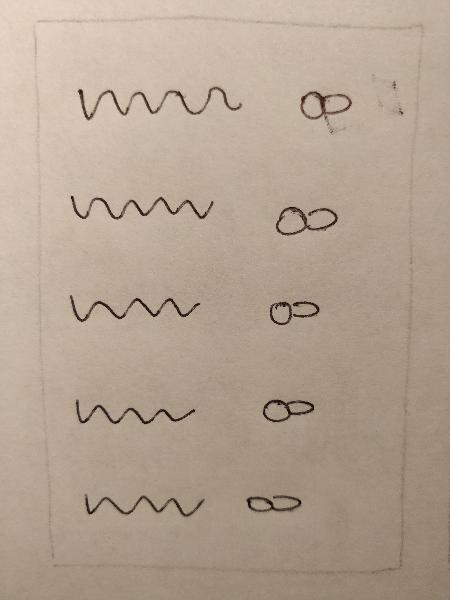switch: (261, 191, 351, 255), (280, 78, 365, 138), (253, 280, 332, 334), (240, 478, 313, 532), (255, 388, 328, 434)
text: (61, 74, 253, 137), (61, 184, 224, 241), (67, 480, 214, 537), (62, 390, 208, 440), (59, 284, 207, 330)
